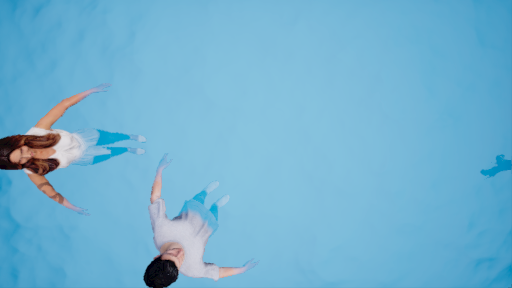person: (1, 87, 149, 211), (140, 157, 256, 288)
